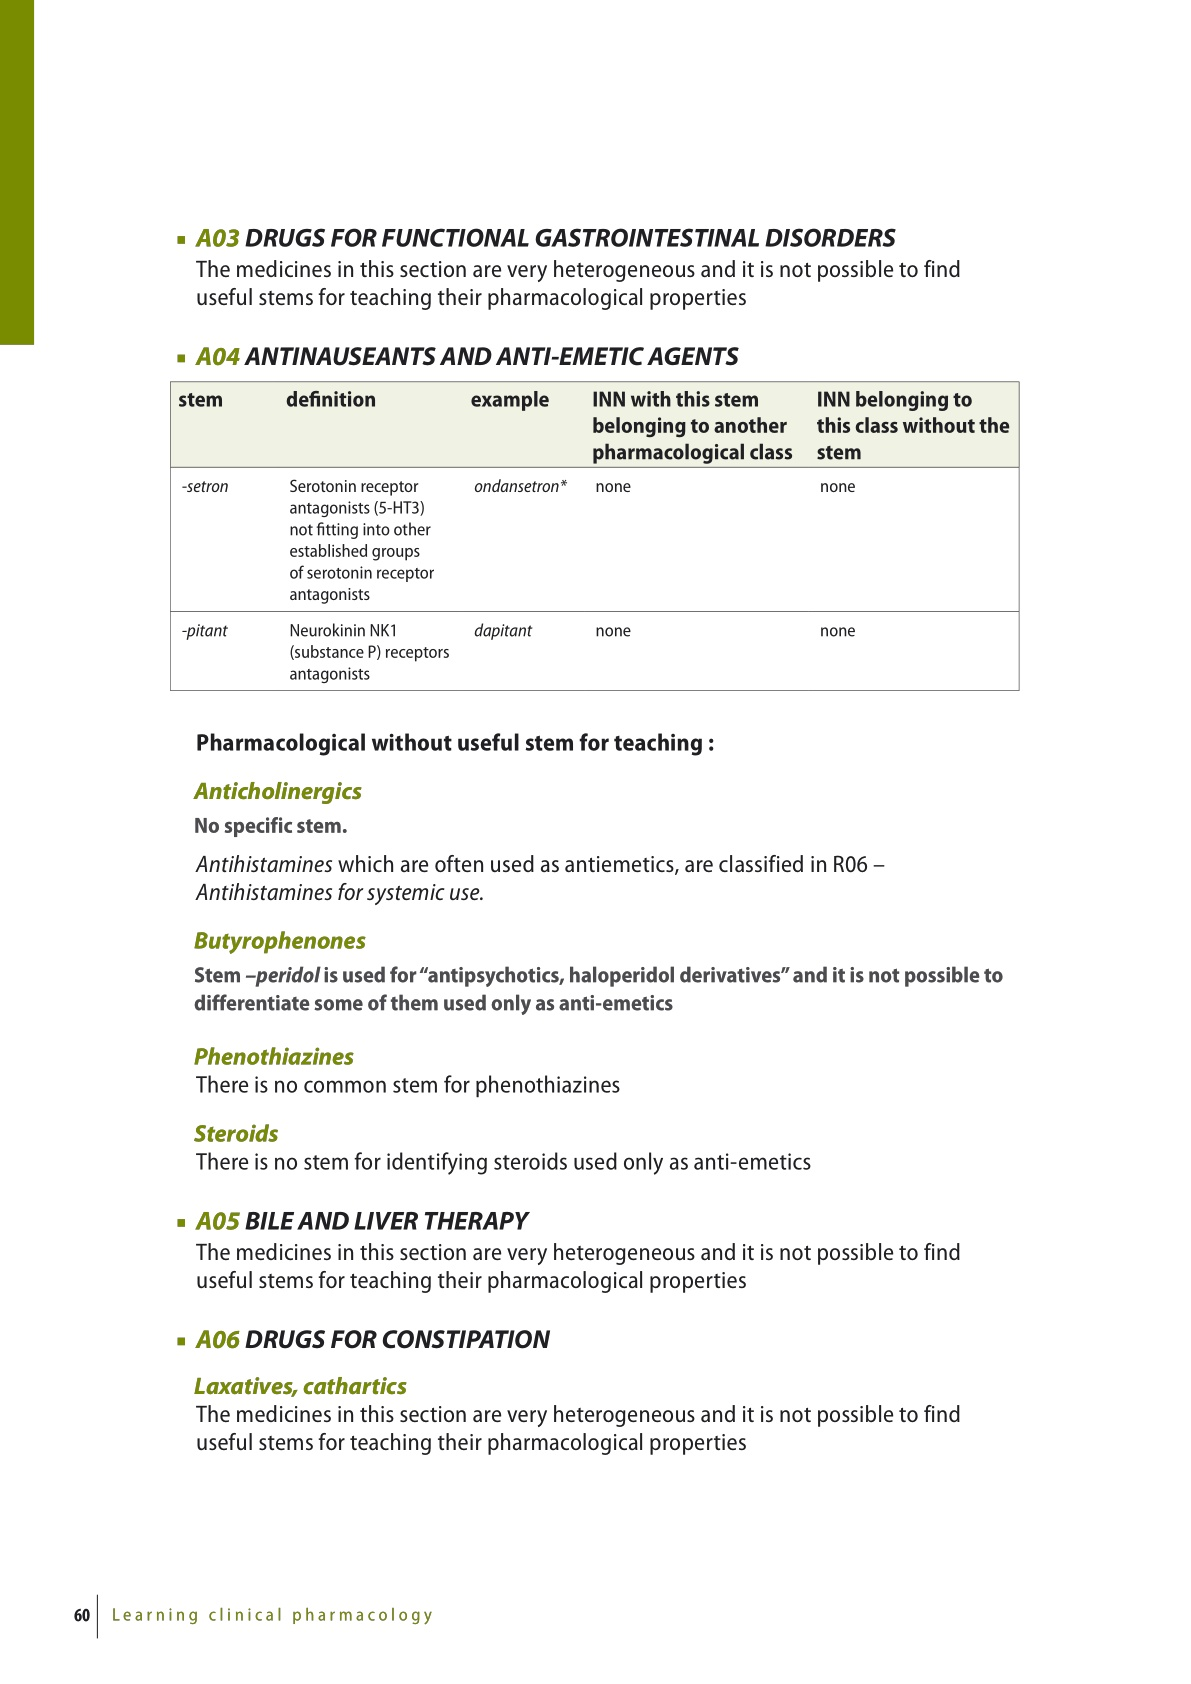partial_lined: (168, 378, 1021, 694)
